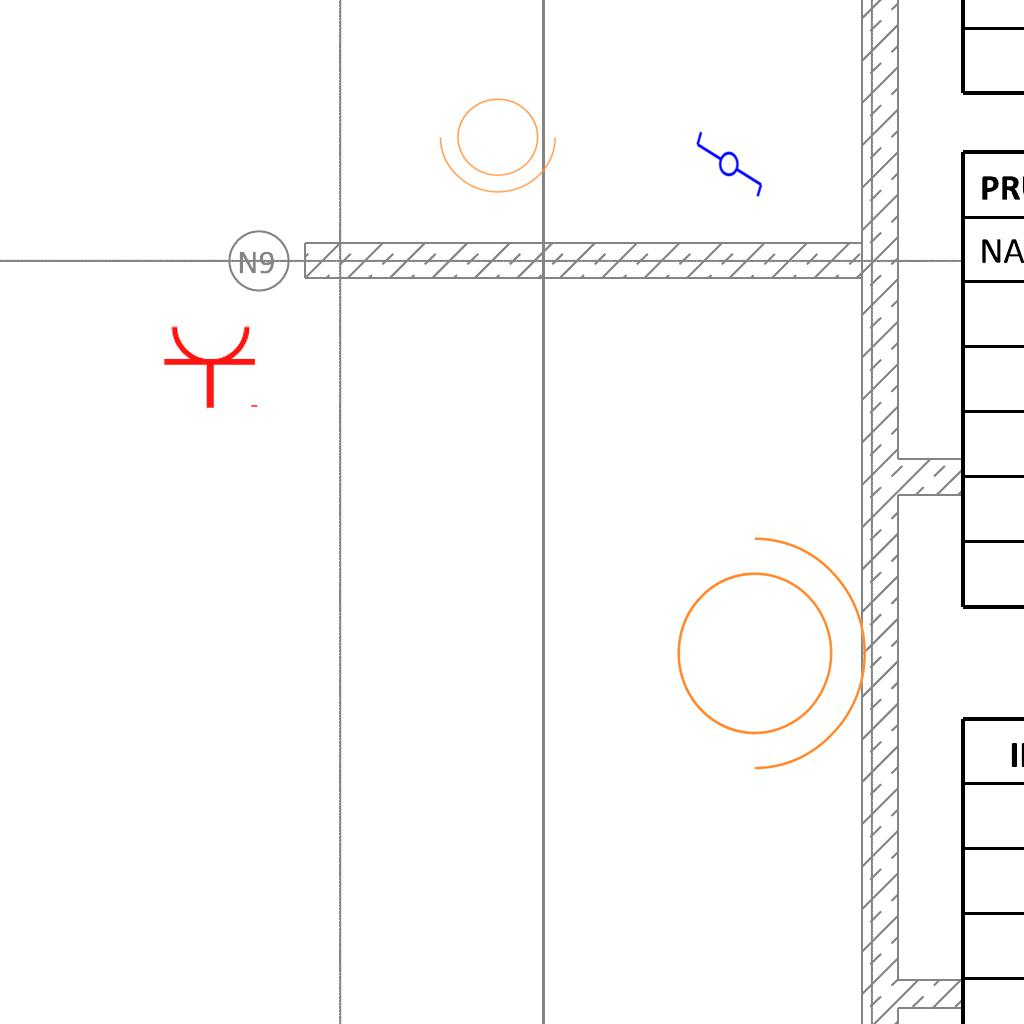Scheinwerfer_fuer_Alarmbeleuchtung: (652, 515, 877, 779), (435, 86, 567, 198)
Schukosteckdose_einfach: (162, 323, 262, 410)
Wechselschalter: (694, 121, 766, 199)
